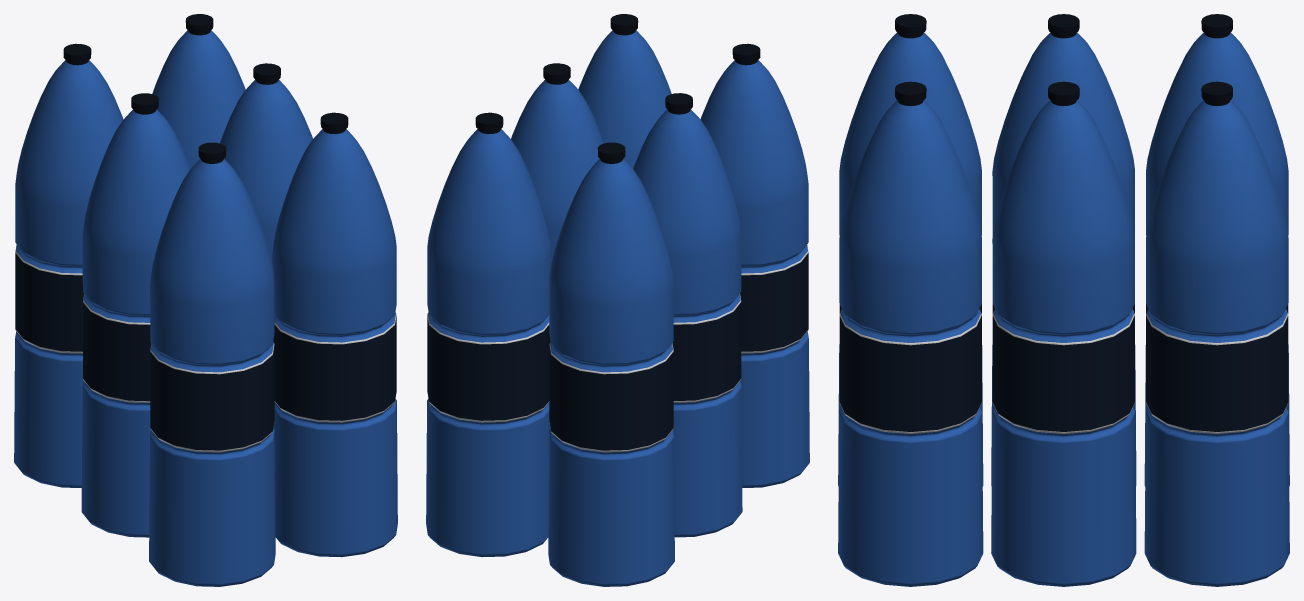
Rendered from SM_Bottles.fbx.
3 renders of one model, left to right at view 1: azimuth 30°, elevation 25°; view 2: azimuth 150°, elevation 25°; view 3: azimuth 270°, elevation 25°, orthographic. The views are drawn at different scales.
Visible parts, largest first — view 1: Bottles; view 2: Bottles; view 3: Bottles.
Part boxes in pixels (x1,y1,x2,y2): Bottles: (14, 14, 397, 586); Bottles: (426, 14, 809, 586); Bottles: (838, 14, 1289, 586).
Size of the model in its own units: 11.57 by 19.79 by 17.11.
